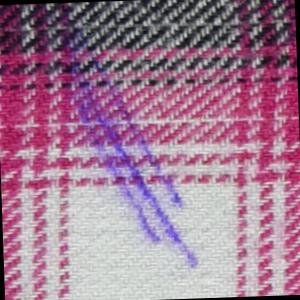Stain: (49, 1, 203, 279)
